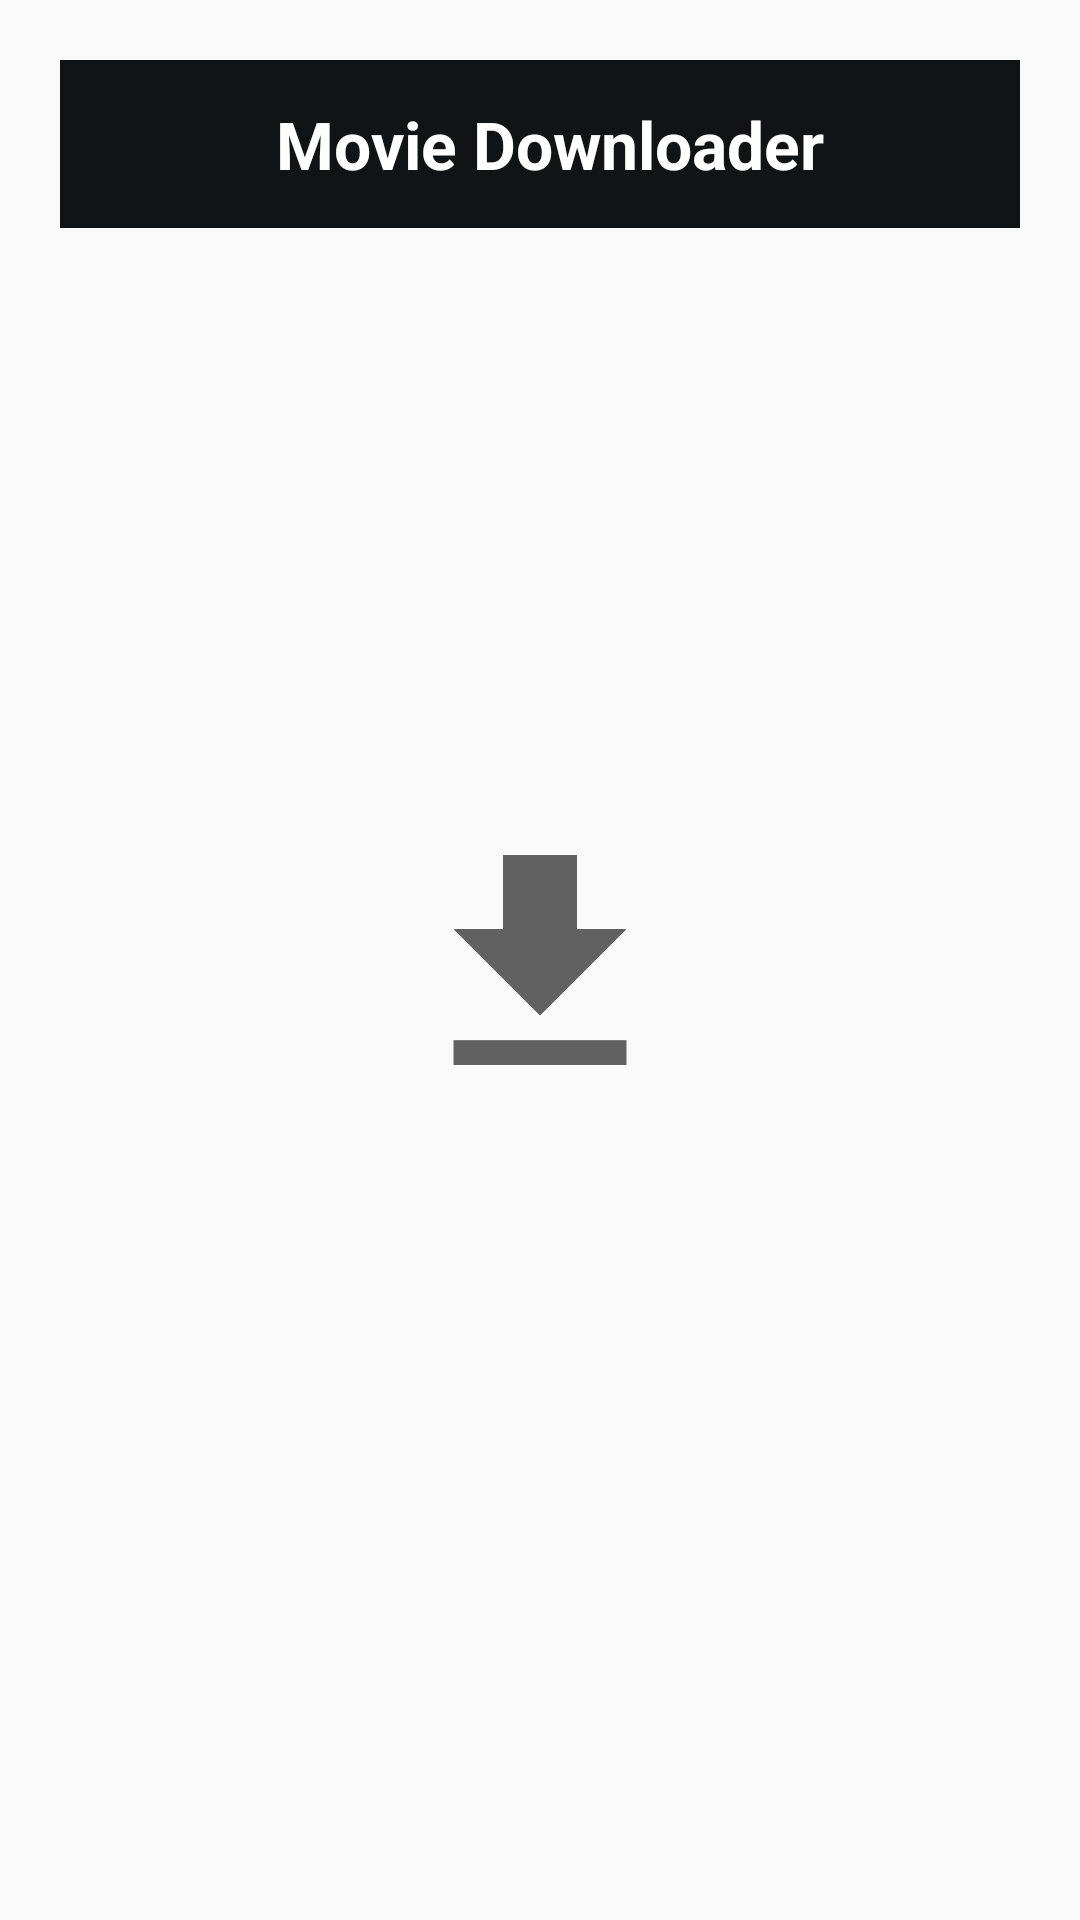

Named icons in this screenshot (1080×1920) and their bounding boxes, (left=x1, top=y1, right=x2, bottom=y2):
download: (left=453, top=855, right=627, bottom=1065)
